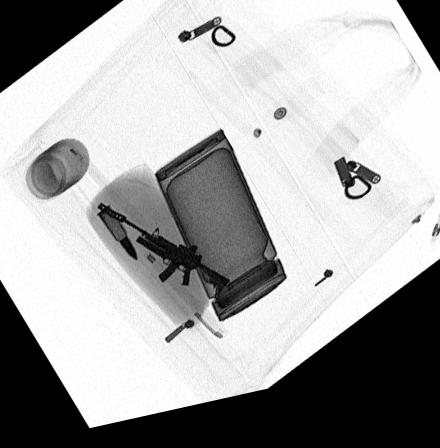Bullet: (97, 208, 138, 266)
Gun: (97, 204, 230, 305)
